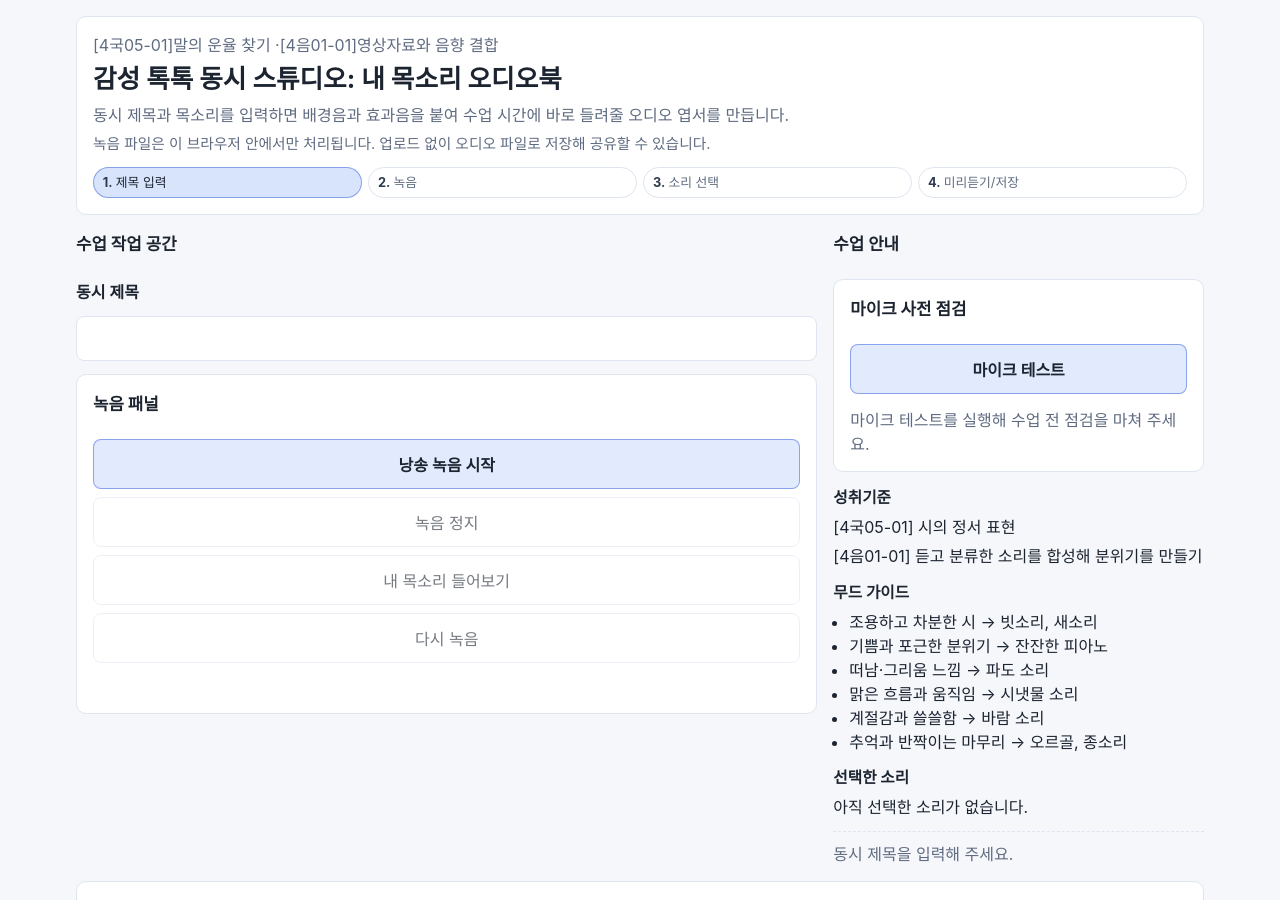
Poetry & BGM Studio › disables microphone test while main recording is active/requesting
The width and height of the screenshot is (1280, 900).
Click the button "낭송 녹음 시작" at (447, 464), box [93,439,800,489]
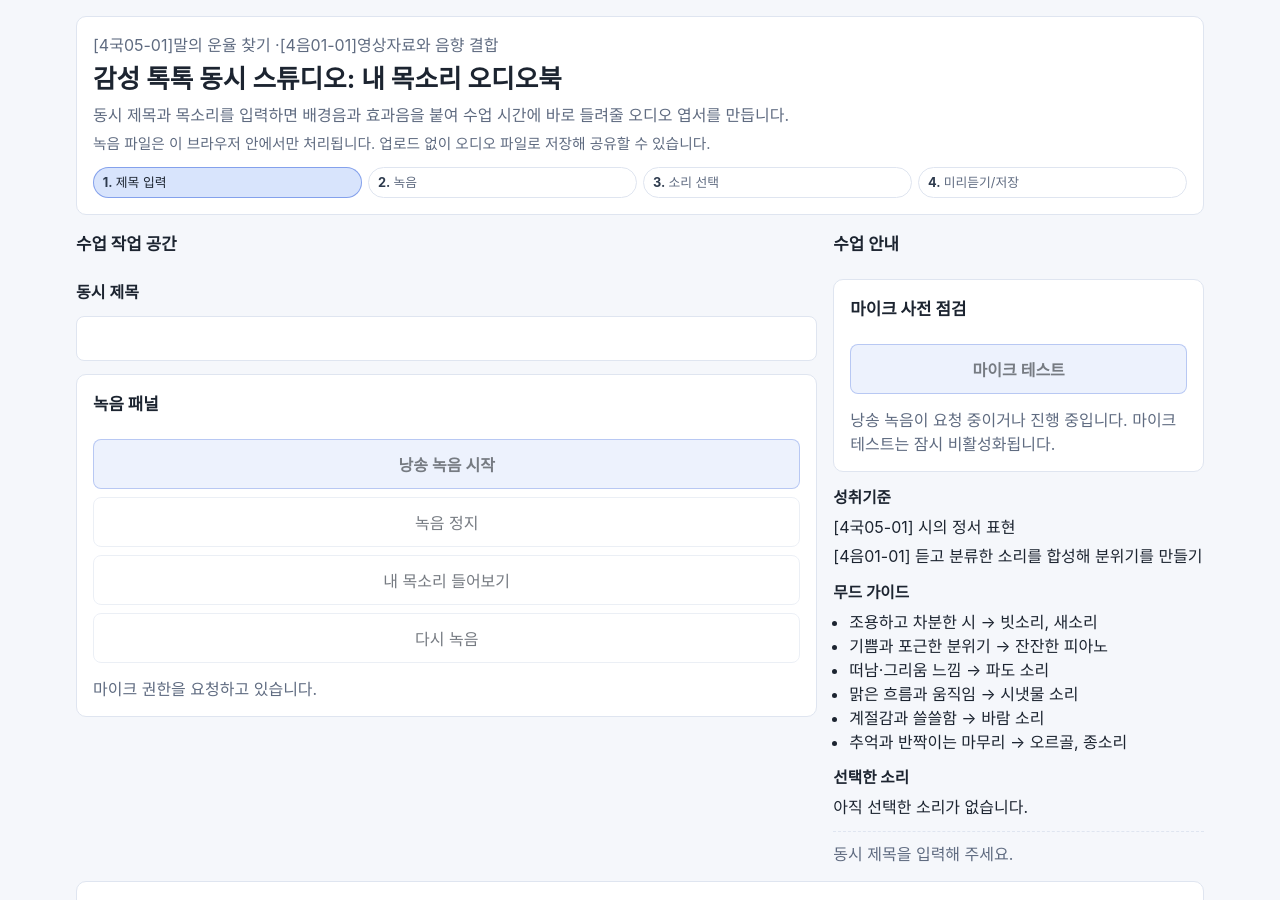
Expected: the button "마이크 테스트" is disabled, [850,344,1187,394]
